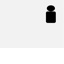human: (44, 3, 58, 25)
